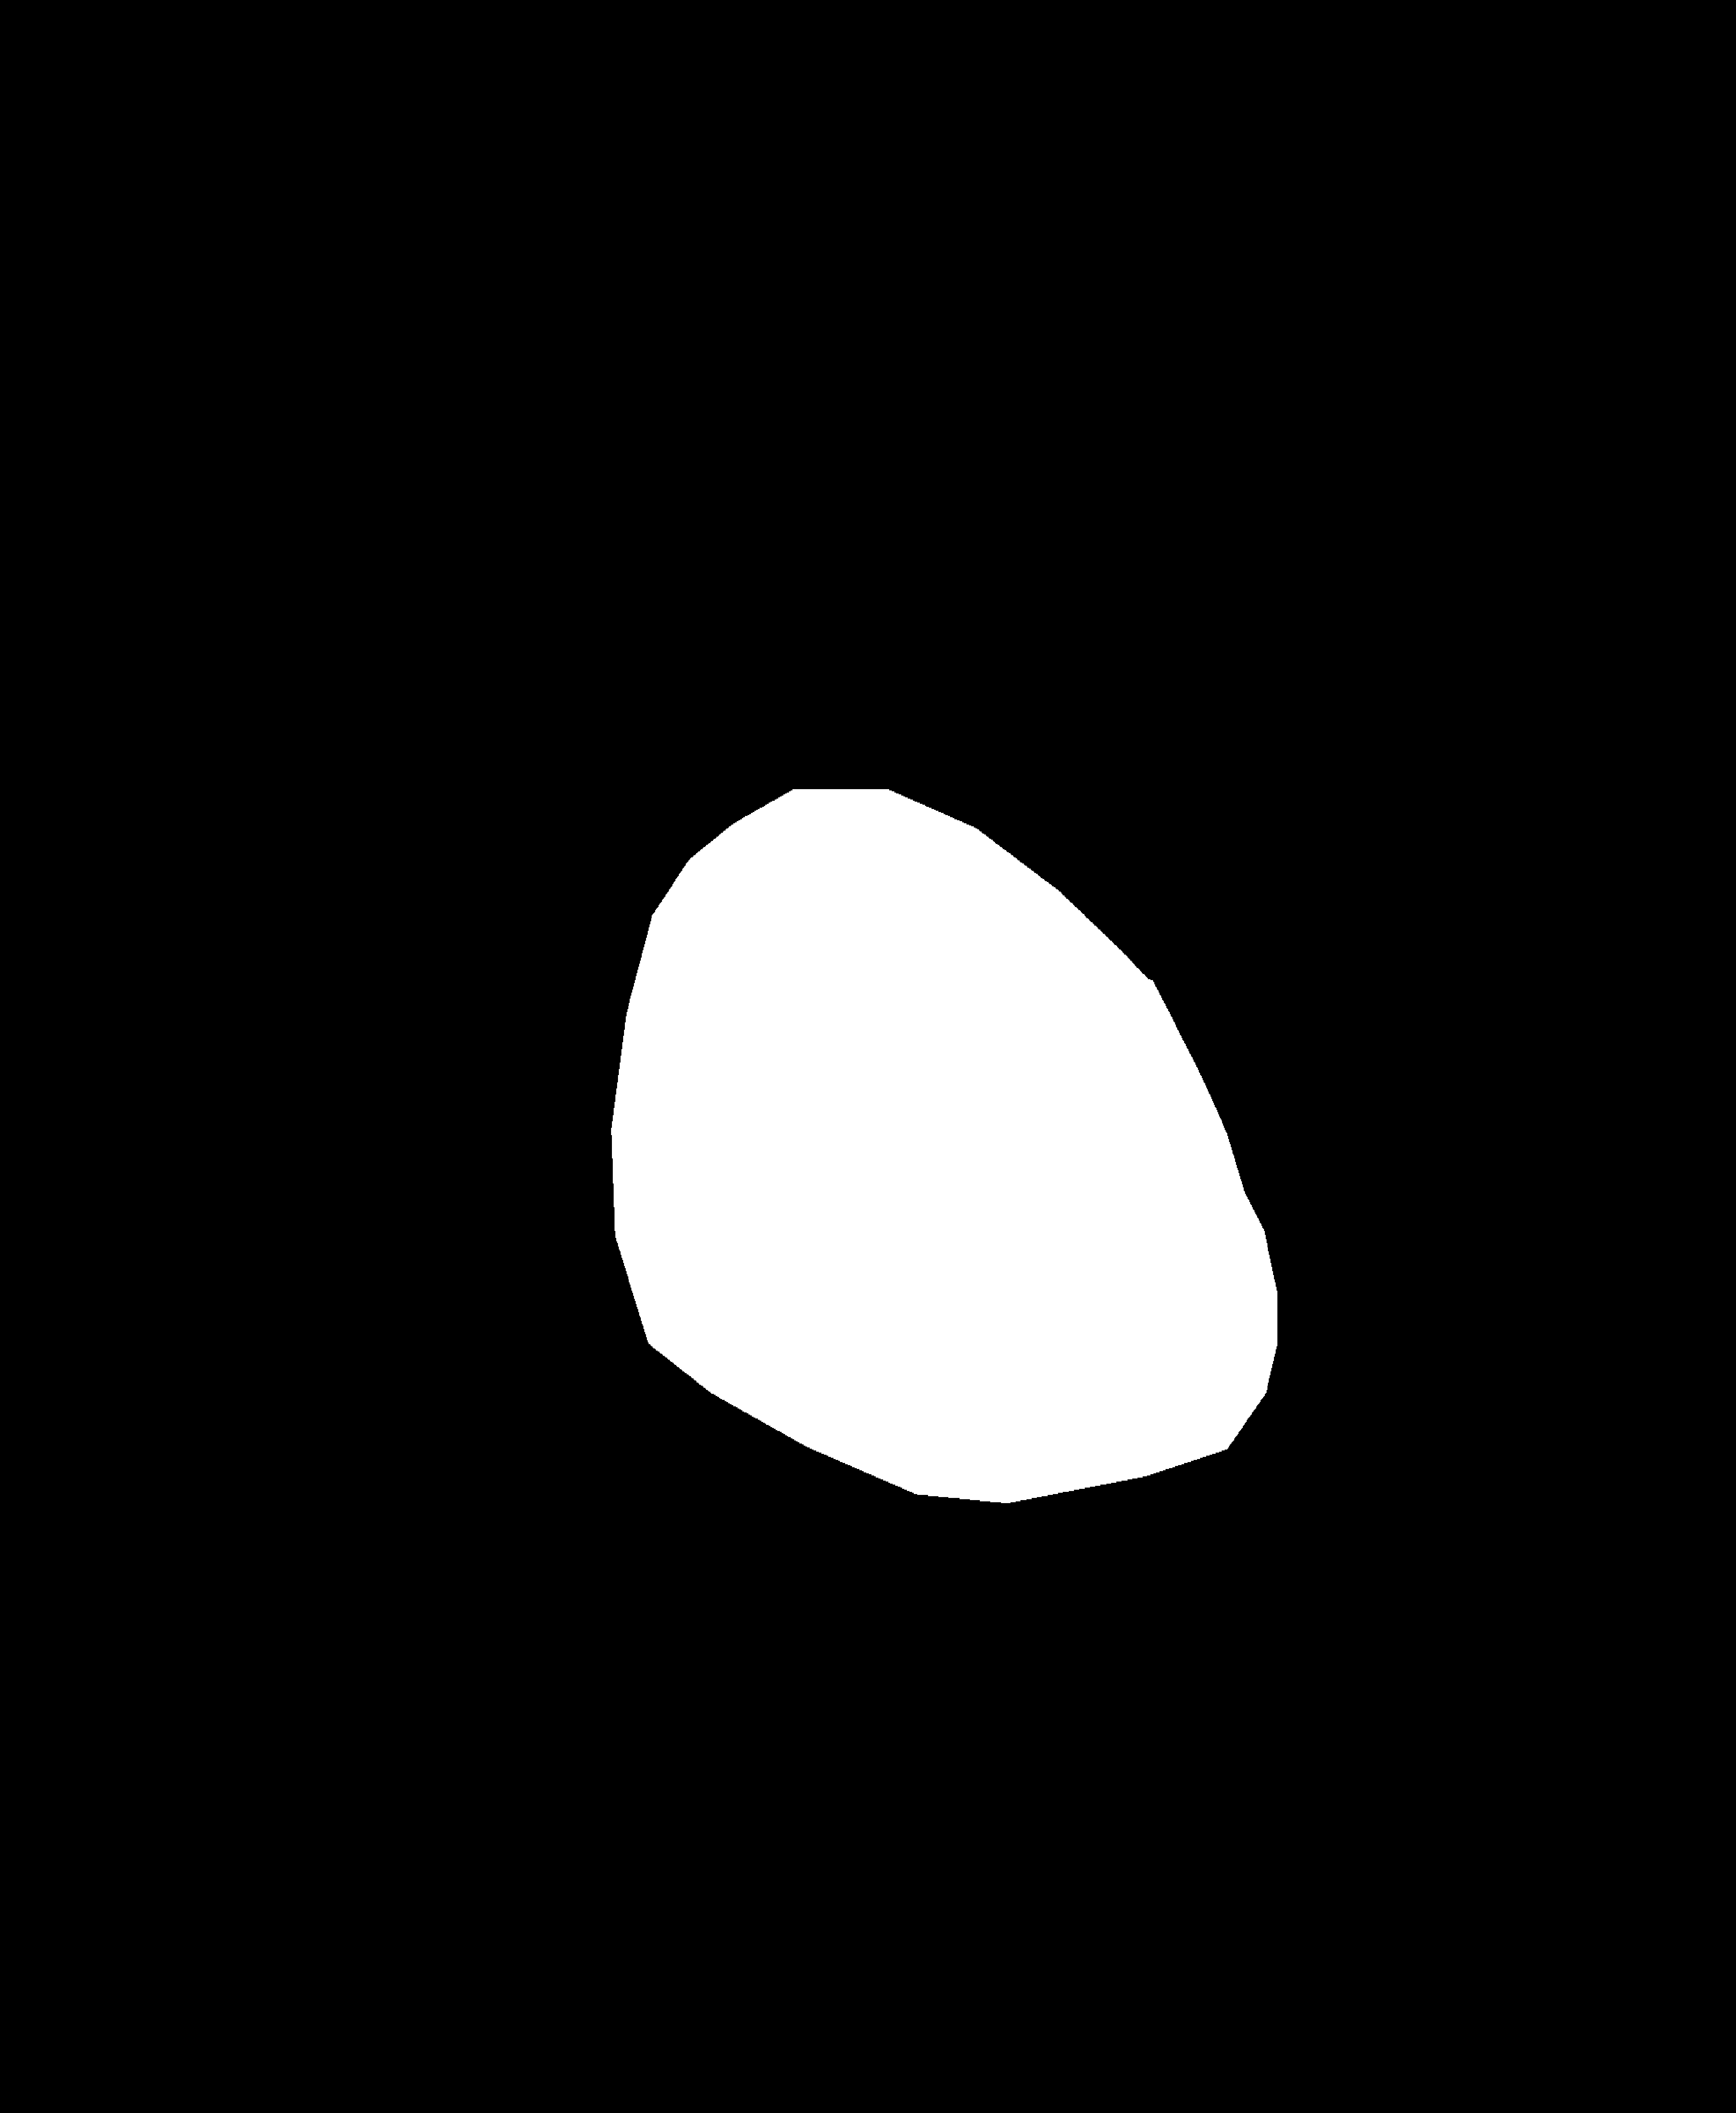heart: (625, 902, 1278, 1611)
left_lung: (44, 247, 716, 1618)
right_lung: (858, 267, 1548, 1613)
